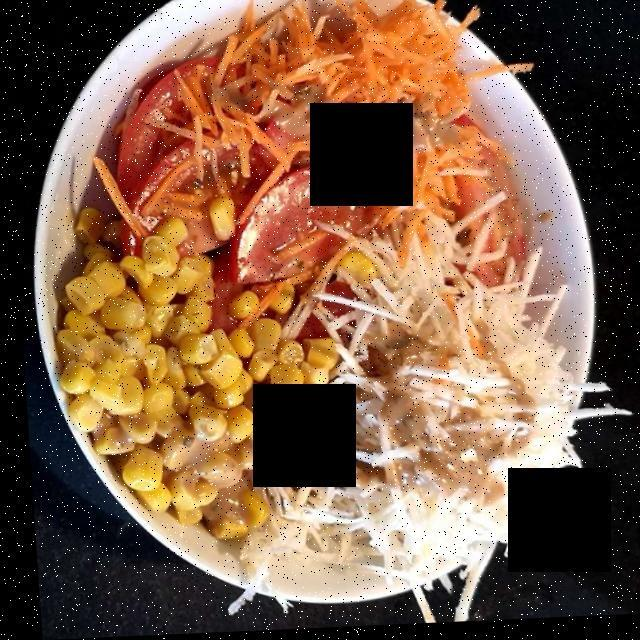carrot: (85, 5, 536, 273)
celeriac: (203, 223, 623, 616)
corn: (40, 229, 338, 538)
salad: (109, 72, 529, 523)
tomato: (65, 62, 395, 338)
